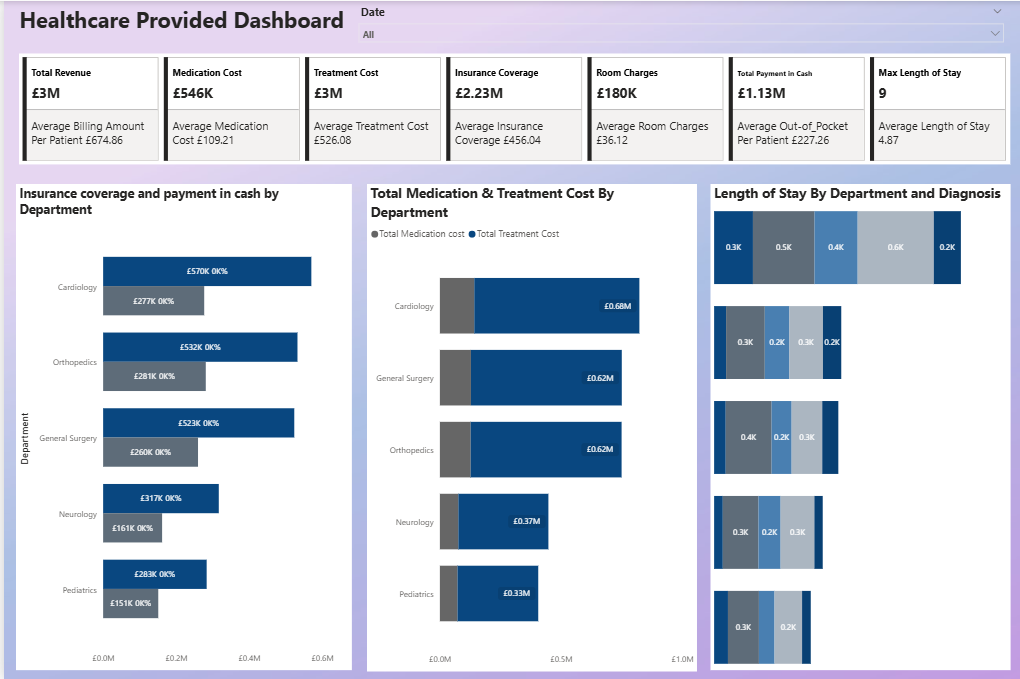

The page's visual inventory and layout, read from the dashboard file:
{"tool":"powerbi","page":{"name":"Department Overview","canvas":[1500,1000],"ordinal":3},"visuals":[{"type":"clusteredBarChart","title":"Insurance coverage and payment in cash by Department","fields":{"Y":["All Measures.Total Insurance Coverage","All Measures.Total Payment in cash"],"Category":["departments.Department"]},"box":[17.7,269.5,494.9,715.8],"z":0},{"type":"barChart","title":"Total Medication & Treatment Cost By Department","fields":{"Category":["departments.Department"],"Y":["All Measures.Total Medication cost","All Measures.Total Treatment Cost"]},"box":[534.6,269.5,486,718],"z":1000},{"type":"barChart","title":"Length of Stay By Department and Diagnosis","fields":{"Y":["Sum(visits.Length of Stay)"],"Series":["diagnoses.Diagnosis"],"Category":["departments.Department"]},"box":[1040.5,269.5,441.8,715.8],"z":2000},{"type":"textbox","box":[17.2,0,517.3,59.4],"z":3000},{"type":"slicer","fields":{"Values":["Date Table.Year","Date Table.Qtr","Date Table.Month","Date Table.WeekType"]},"box":[512.5,0,969.8,77.3],"z":4000},{"type":"cardVisual","fields":{"Data":["All Measures.Total Billing Amount","All Measures.Total Medication cost","All Measures.Total Treatment Cost","All Measures.Total Insurance Coverage","All Measures.Total Room Charges","All Measures.Total Payment in cash","All Measures.Total Length of Stay"]},"box":[22.1,77.3,1460.3,163.5],"z":5000}]}

Visuals, with their boxes in screenshot pixels (x1, y1, x2, y2), scaled from the page's 1500x1000 canvas onto the 1020x679 screenshot:
"Insurance coverage and payment in cash by Department" clusteredBarChart: (12, 183, 349, 669)
"Total Medication & Treatment Cost By Department" barChart: (364, 183, 694, 671)
"Length of Stay By Department and Diagnosis" barChart: (708, 183, 1008, 669)
textbox: (12, 0, 363, 40)
slicer - Date Table.Year x Date Table.Qtr: (348, 0, 1008, 52)
cardVisual - All Measures.Total Billing Amount x All Measures.Total Medication cost: (15, 52, 1008, 164)
